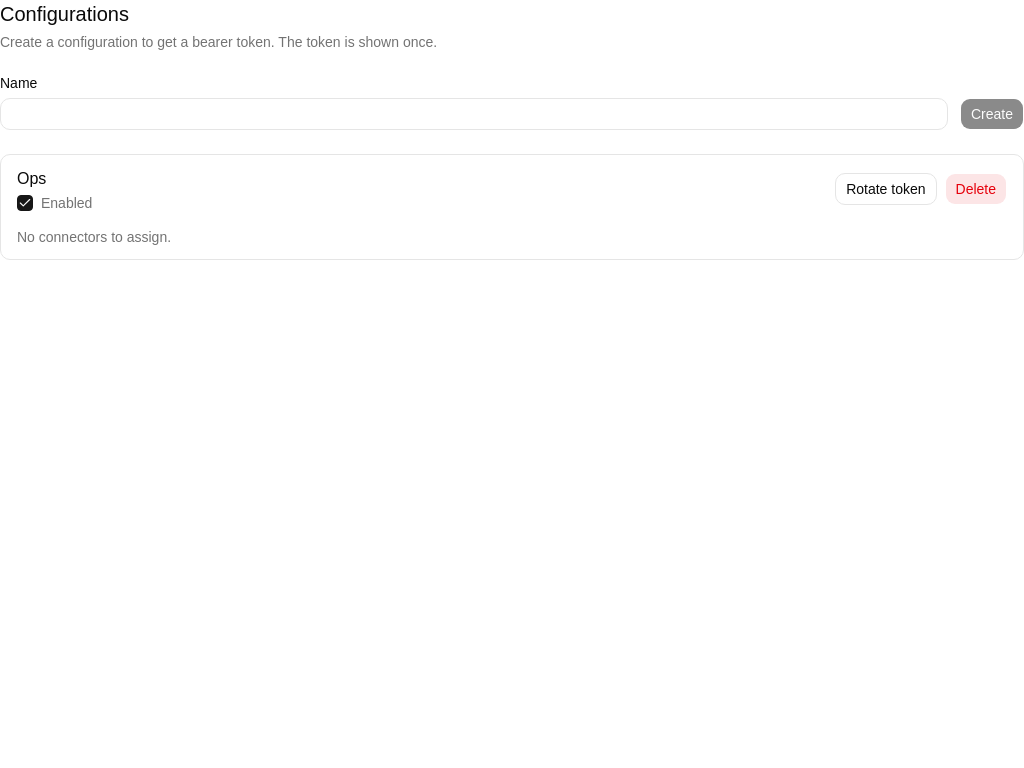
Test: admin-configurations-ui: Confirm before rotate and delete › Rotate requires confirmation then shows the new token
Expected: the text "Ops" is shown, [17,170,46,187]
Click the button "Rotate token" at (886, 189), box [835,173,936,205]
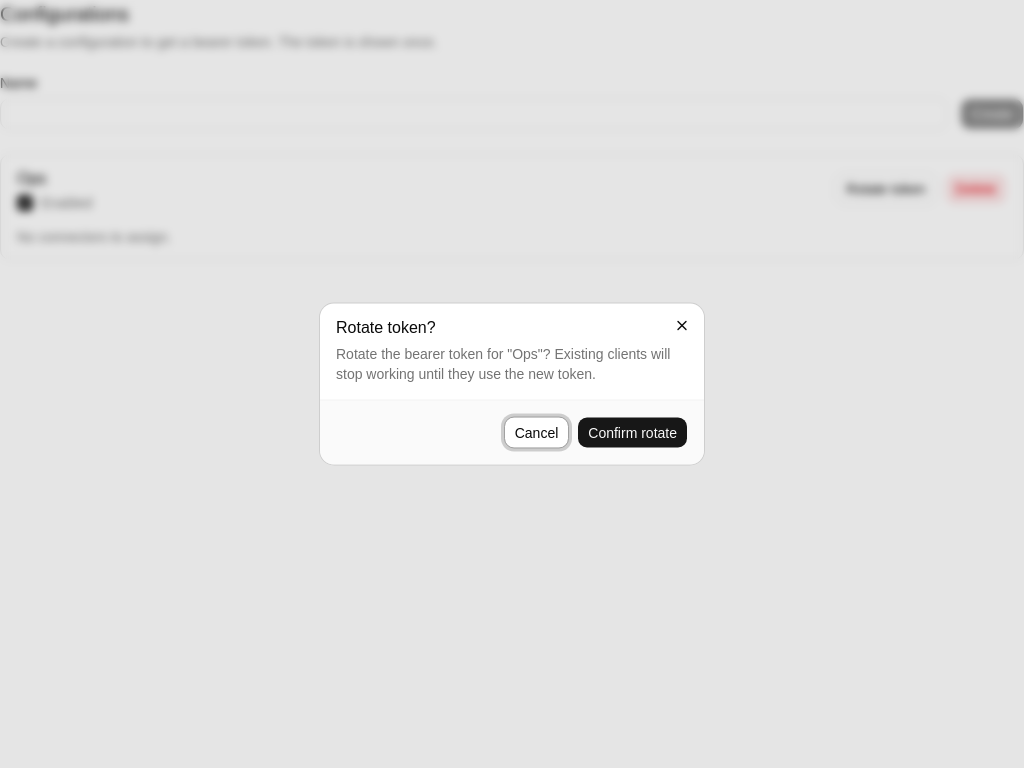
Now the dialog "Rotate token?" is shown, box [320,304,704,464]
Click the button "Confirm rotate" at (633, 432), box [577,416,688,448]
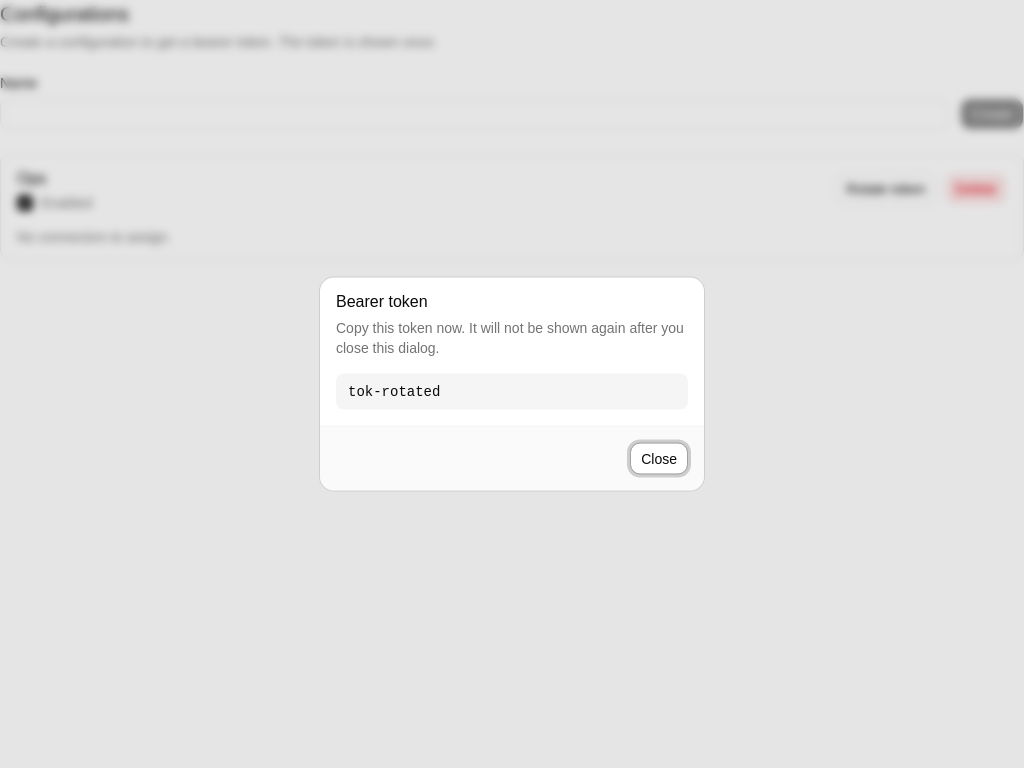
Now the text "tok-rotated" is shown, box [336,374,688,410]
Click the button "Close" at (659, 458), box [630,442,688,474]
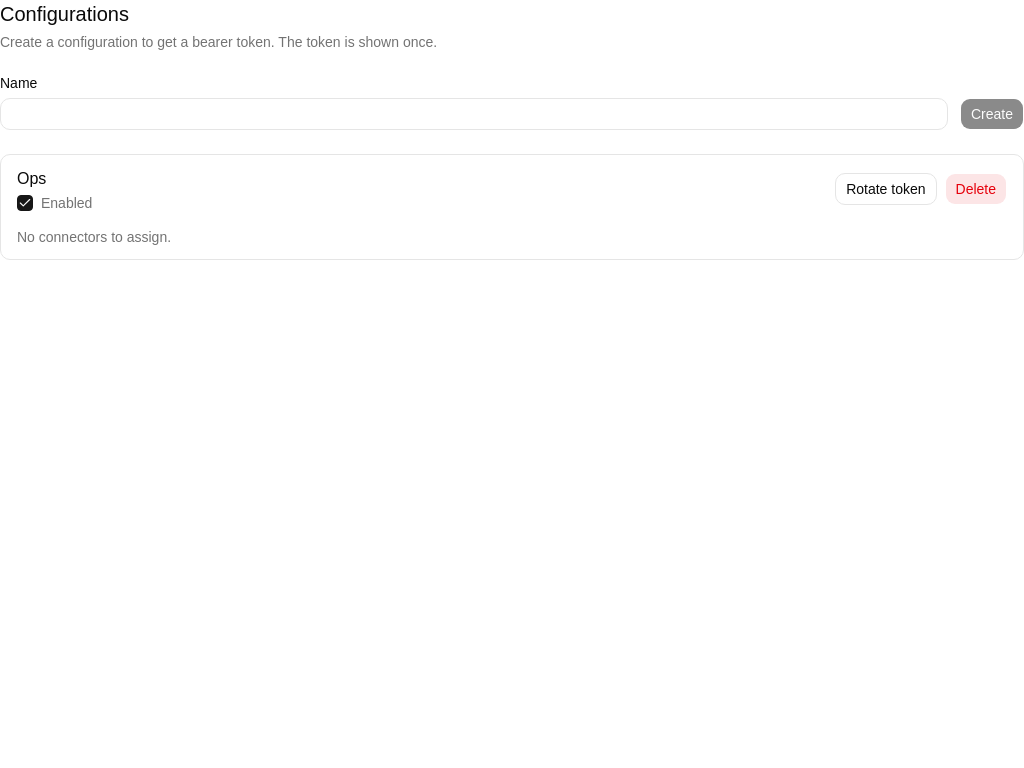
Now the text "tok-rotated" is gone
